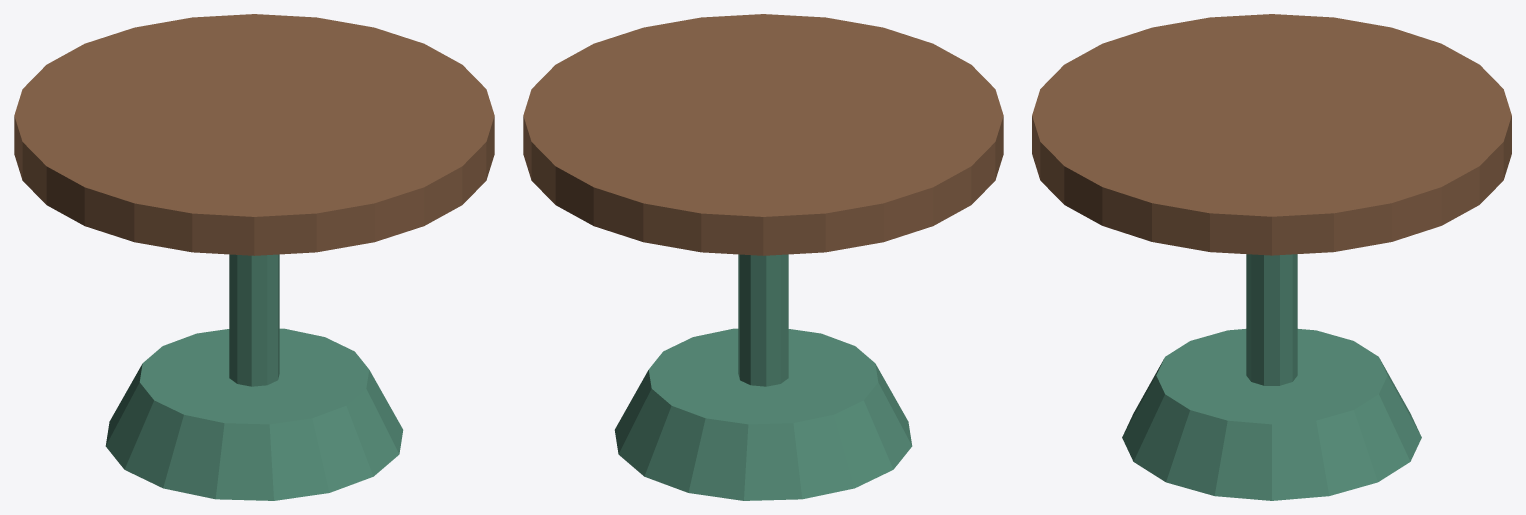
File: tpe5_cafe_table.glb
The picture shows the model from 3 angles, left to right: view 1: azimuth 30°, elevation 25°; view 2: azimuth 150°, elevation 25°; view 3: azimuth 270°, elevation 25°; orthographic projection.
Parts seen in each view (by area): view 1: tpe5_cafe_table__tpe5-street-walnut, tpe5_cafe_table__tpe5-street-jade; view 2: tpe5_cafe_table__tpe5-street-walnut, tpe5_cafe_table__tpe5-street-jade; view 3: tpe5_cafe_table__tpe5-street-walnut, tpe5_cafe_table__tpe5-street-jade.
Part boxes in pixels (left/top/right/bottom): tpe5_cafe_table__tpe5-street-walnut: left=14, top=14, right=494, bottom=255; tpe5_cafe_table__tpe5-street-jade: left=105, top=254, right=403, bottom=500; tpe5_cafe_table__tpe5-street-walnut: left=523, top=14, right=1003, bottom=255; tpe5_cafe_table__tpe5-street-jade: left=614, top=254, right=912, bottom=500; tpe5_cafe_table__tpe5-street-walnut: left=1032, top=14, right=1511, bottom=255; tpe5_cafe_table__tpe5-street-jade: left=1122, top=254, right=1421, bottom=500.
Bounding box in the file's own units: 1.12 × 0.83 × 1.12.
